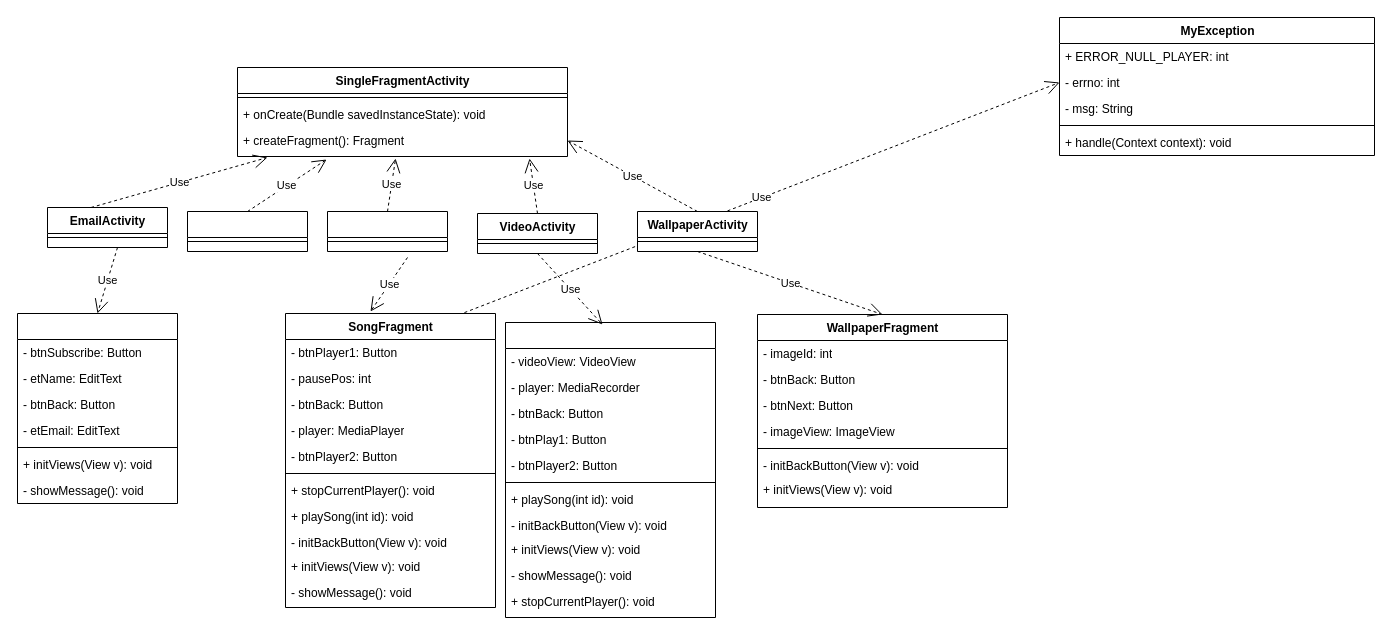
This 1392x635 diagram has some shape labels left out. The box of each missing label's shape, as (x1, y1, x2, y2) in pixels:
EmailFragment: (16, 312, 178, 504)
MainActivity: (186, 210, 308, 252)
SongActivity: (326, 210, 448, 252)
VideoFragment: (504, 322, 716, 618)
